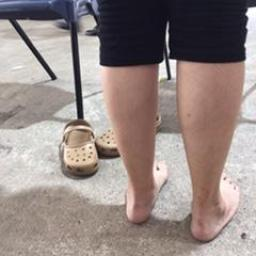Back View -Both Feet-: (112, 139, 245, 244)
